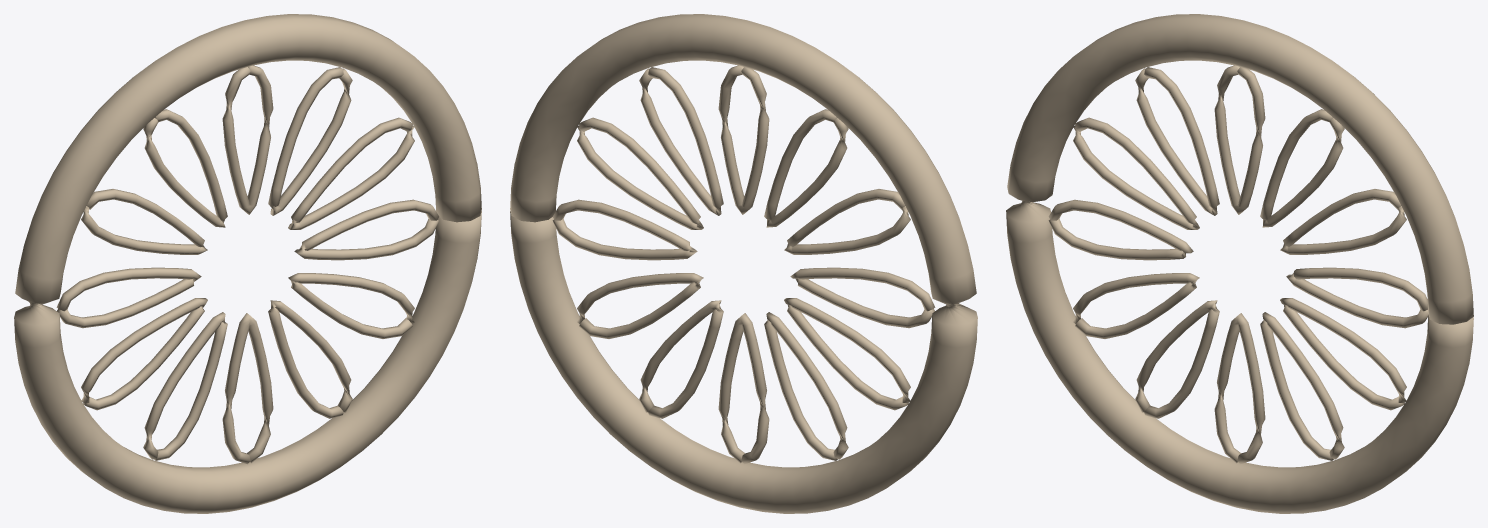
The model's file is rose_frame.glb.
The picture shows the model from 3 angles, left to right: view 1: azimuth 30°, elevation 25°; view 2: azimuth 150°, elevation 25°; view 3: azimuth 330°, elevation 25°; orthographic projection.
Parts seen in each view (by area): view 1: rose_frame; view 2: rose_frame; view 3: rose_frame.
Boxes of the visible parts, box(x1,y1,x2,y2) form: rose_frame: box(14, 14, 481, 513); rose_frame: box(510, 14, 977, 513); rose_frame: box(1006, 14, 1473, 513).
Bounding box in the file's own units: 1.89 × 1.89 × 0.1656.
